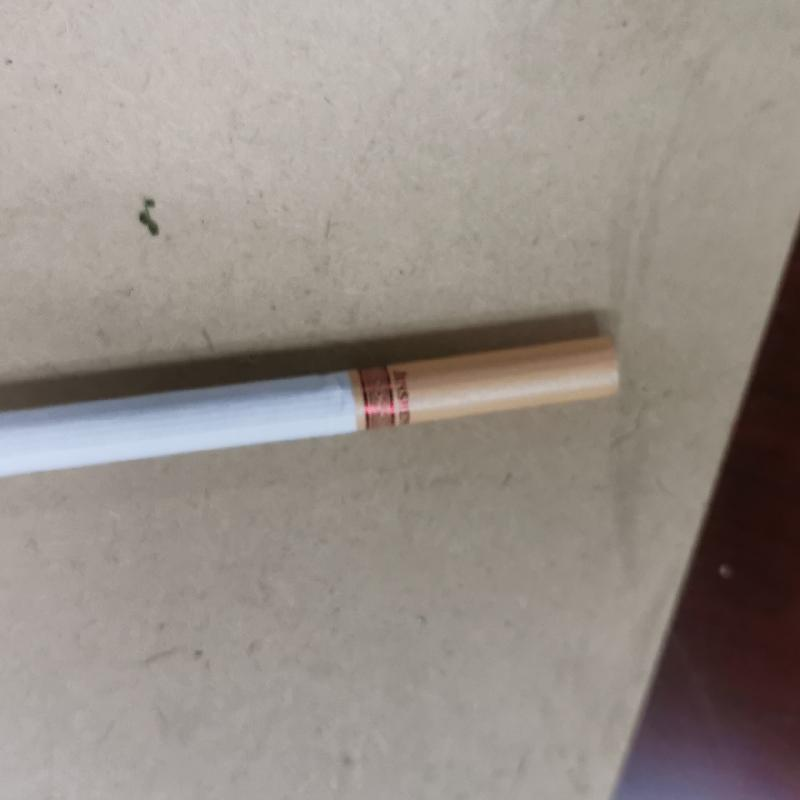cigarette: (0, 335, 623, 475)
